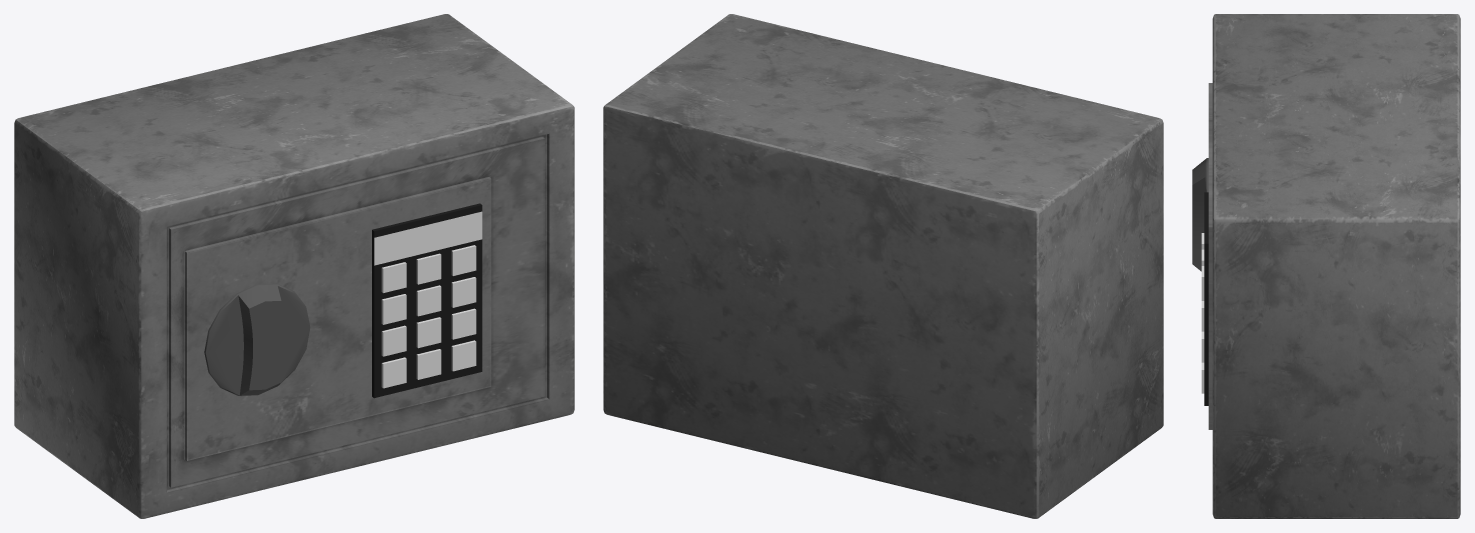
File: safe.fbx
3 views of the same model, side by side, from view 1: azimuth 30°, elevation 25°; view 2: azimuth 150°, elevation 25°; view 3: azimuth 270°, elevation 25° (orthographic). The views are drawn at different scales.
Visible parts, largest first — view 1: Cube.004, Cube.003, Cylinder.003; view 2: Cube.004; view 3: Cube.004, Cube.003, Cylinder.003.
Boxes of the visible parts, x1,y1,x2,y2 form: Cube.004: (14, 14, 574, 518); Cube.003: (372, 203, 482, 398); Cylinder.003: (204, 283, 310, 395); Cube.004: (603, 14, 1163, 518); Cube.004: (1208, 14, 1460, 518); Cube.003: (1201, 192, 1208, 405); Cylinder.003: (1192, 158, 1208, 271).
Bounding box in the file's own units: 46.11 × 31.36 × 25.25.
Materials: 4 (1 with a texture image).
